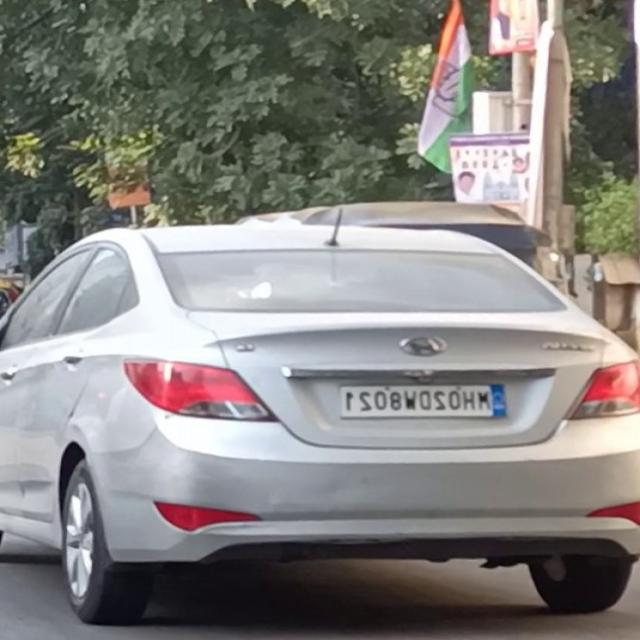license_plate: (330, 378, 512, 425)
